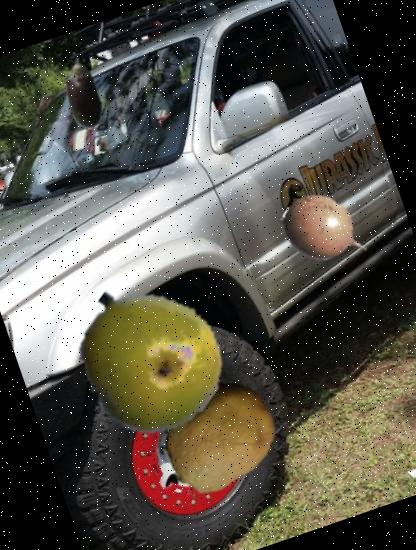Eggplant: (35, 46, 129, 140)
Granadilla: (269, 174, 383, 288)
Maracuja: (53, 264, 244, 454)
Papaya: (145, 363, 292, 510)
